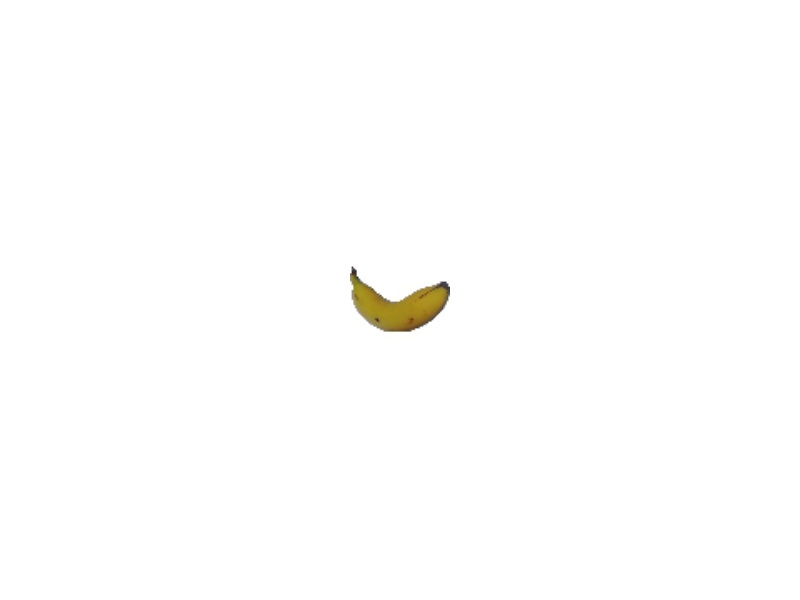banana: (347, 265, 458, 338)
